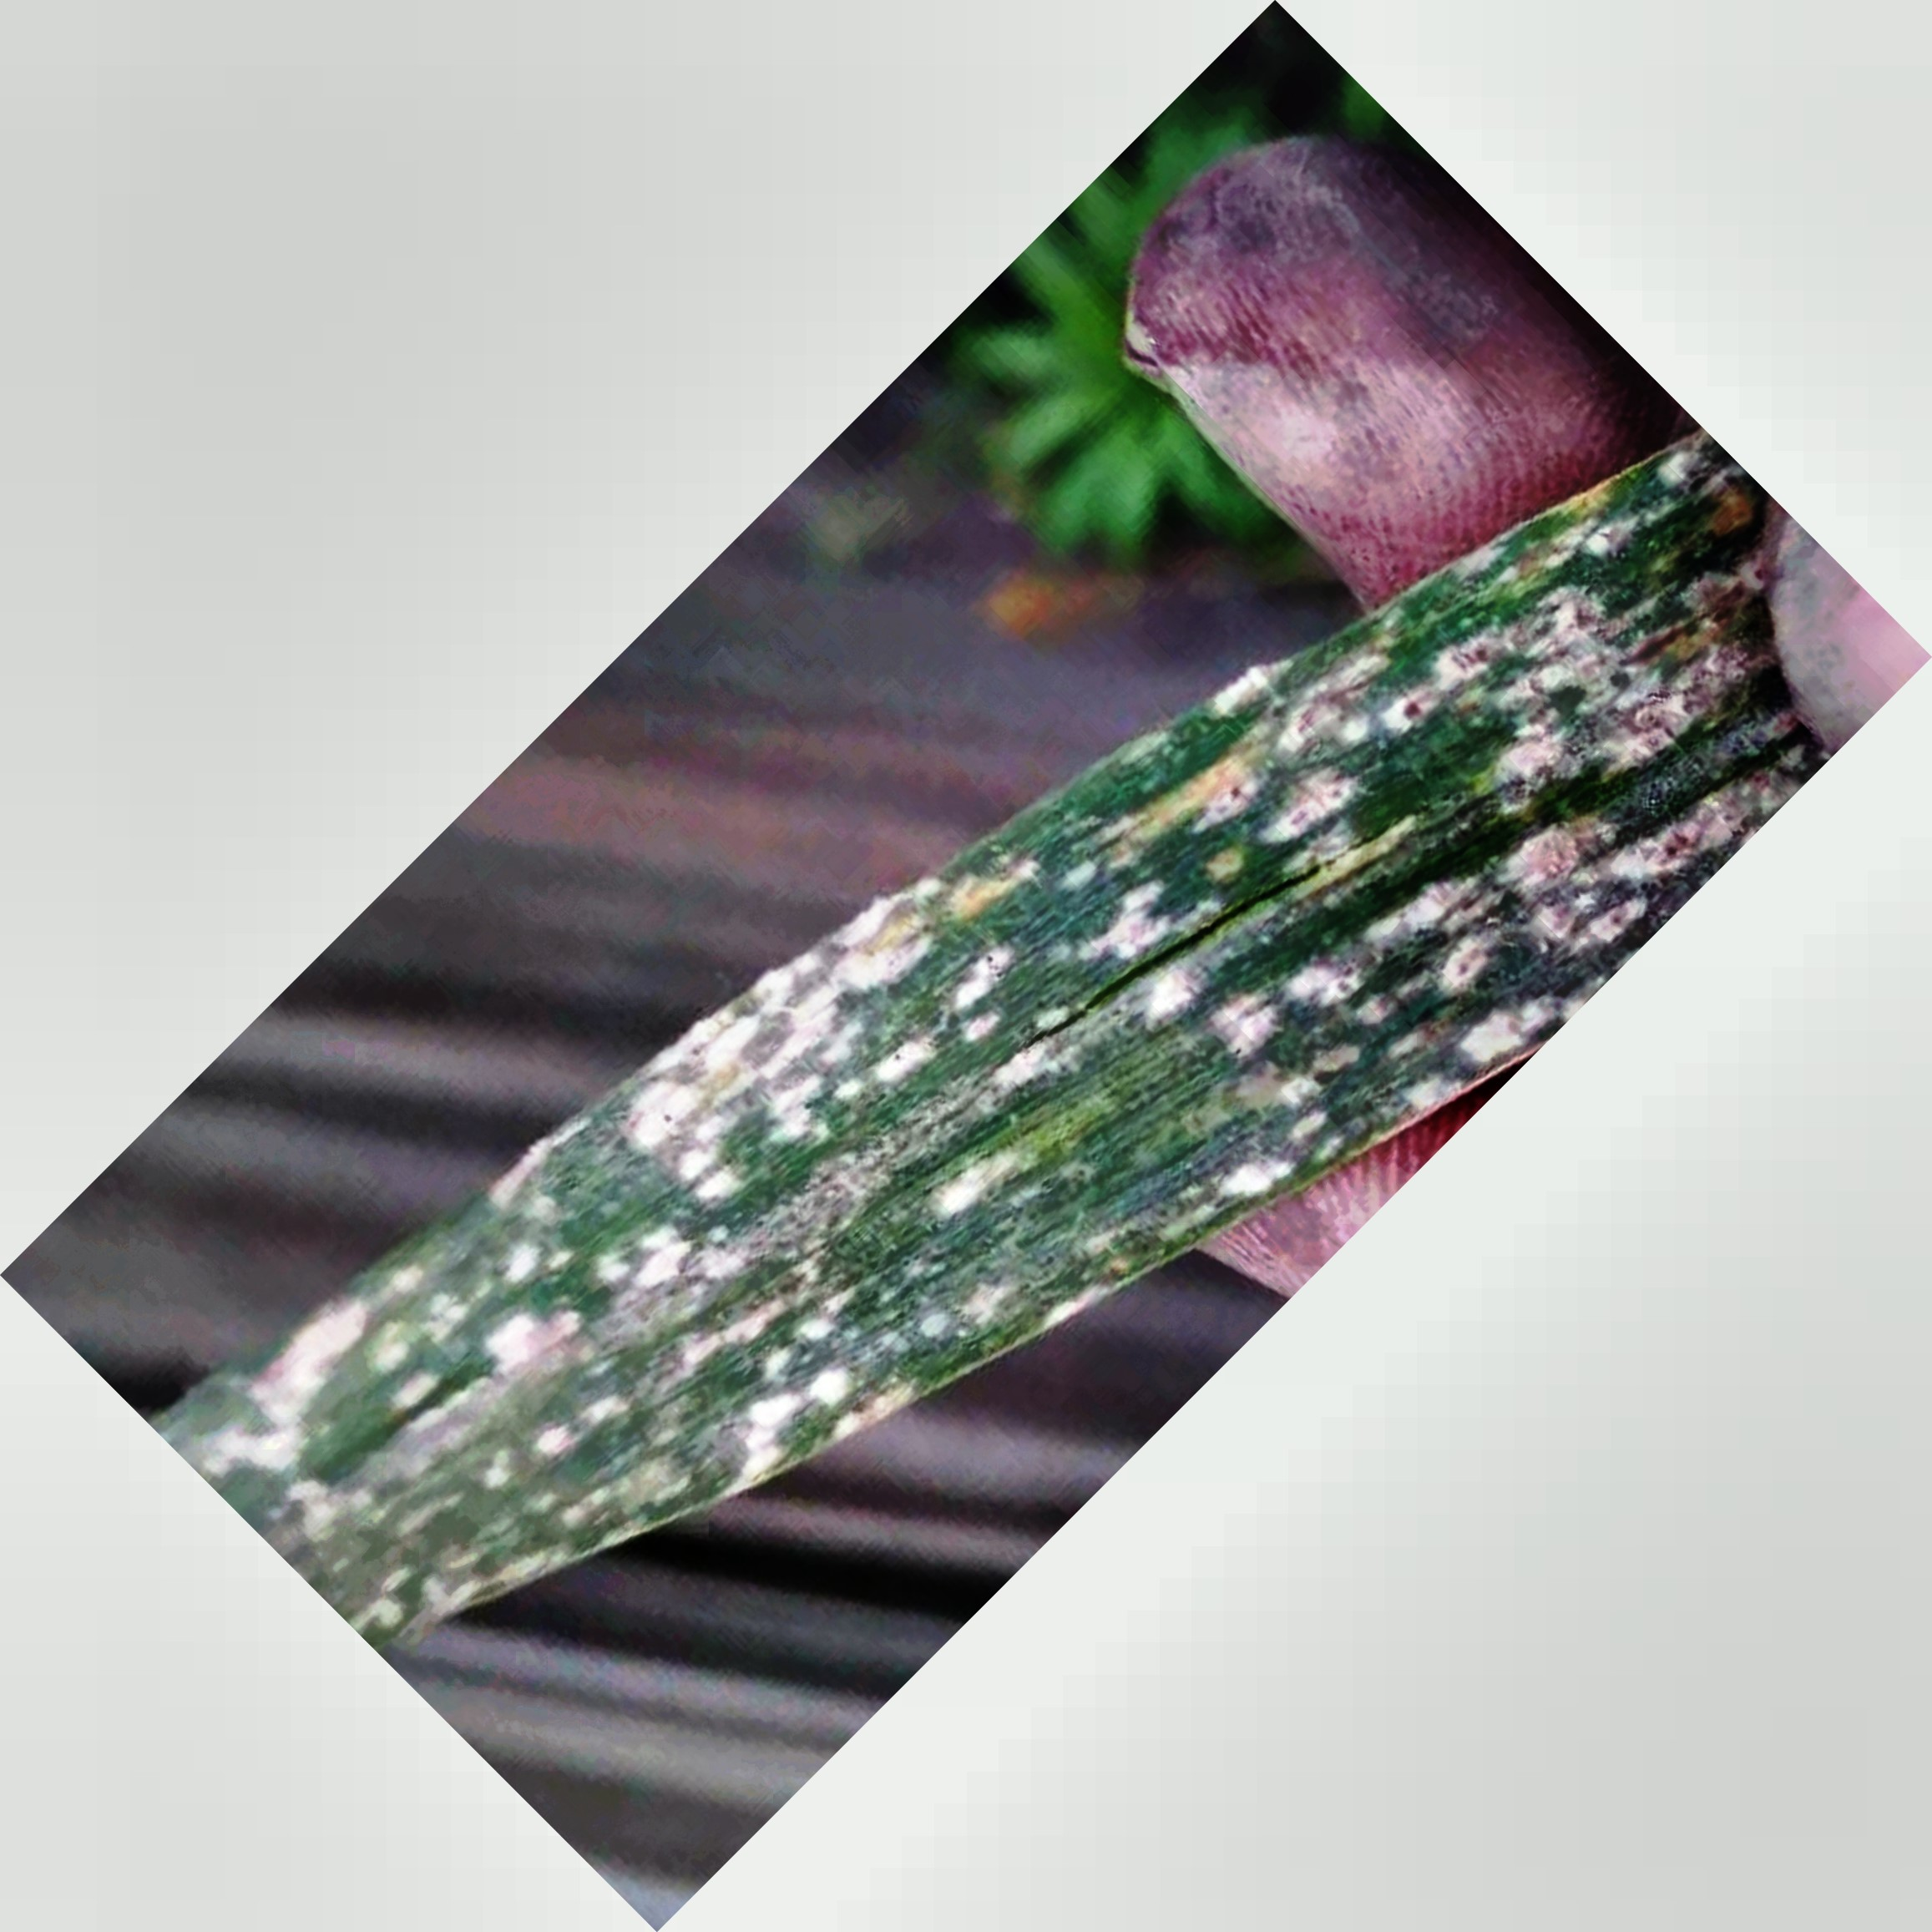Powdery Mildew: (318, 502, 1736, 1576)
